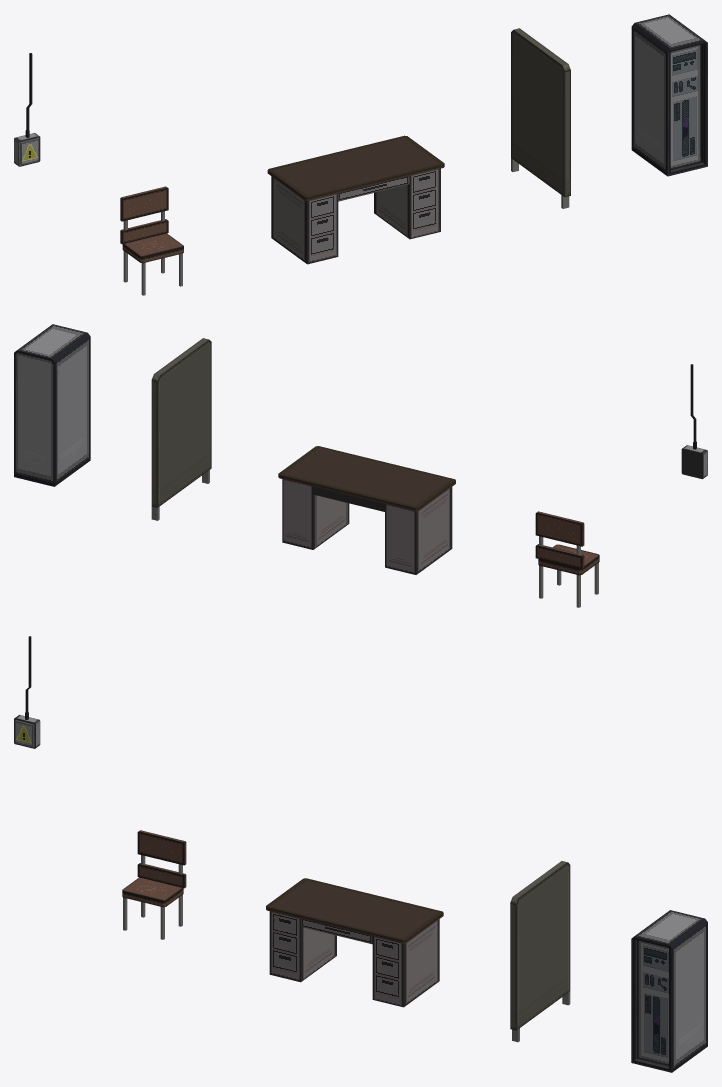
The model's file is BrainCell-Props-VisualPrototype02.glb.
3 views of the same model, one above another, from view 1: azimuth 30°, elevation 25°; view 2: azimuth 150°, elevation 25°; view 3: azimuth 330°, elevation 25° (orthographic).
Parts seen in each view (by area): view 1: Table, Locker, Cublcle, Chair, ElectricityConnect; view 2: Table, Locker, Cublcle, Chair, ElectricityConnect; view 3: Table, Locker, Cublcle, Chair, ElectricityConnect.
Part boxes in pixels (x1,y1,x2,y2): Table: (267, 135, 444, 264); Locker: (631, 14, 707, 176); Cublcle: (511, 28, 570, 208); Chair: (120, 186, 183, 295); ElectricityConnect: (14, 53, 40, 166); Table: (278, 446, 455, 574); Locker: (14, 324, 90, 486); Cublcle: (151, 338, 211, 520); Chair: (535, 511, 599, 607); ElectricityConnect: (681, 364, 707, 479); Table: (266, 878, 443, 1007); Locker: (631, 910, 707, 1072); Cublcle: (510, 861, 570, 1042); Chair: (122, 830, 186, 939); ElectricityConnect: (14, 636, 40, 748).
Size of what is drawn, in the model's own units: 21.65 by 8 by 3.
Materials: 5 (5 with a texture image).
